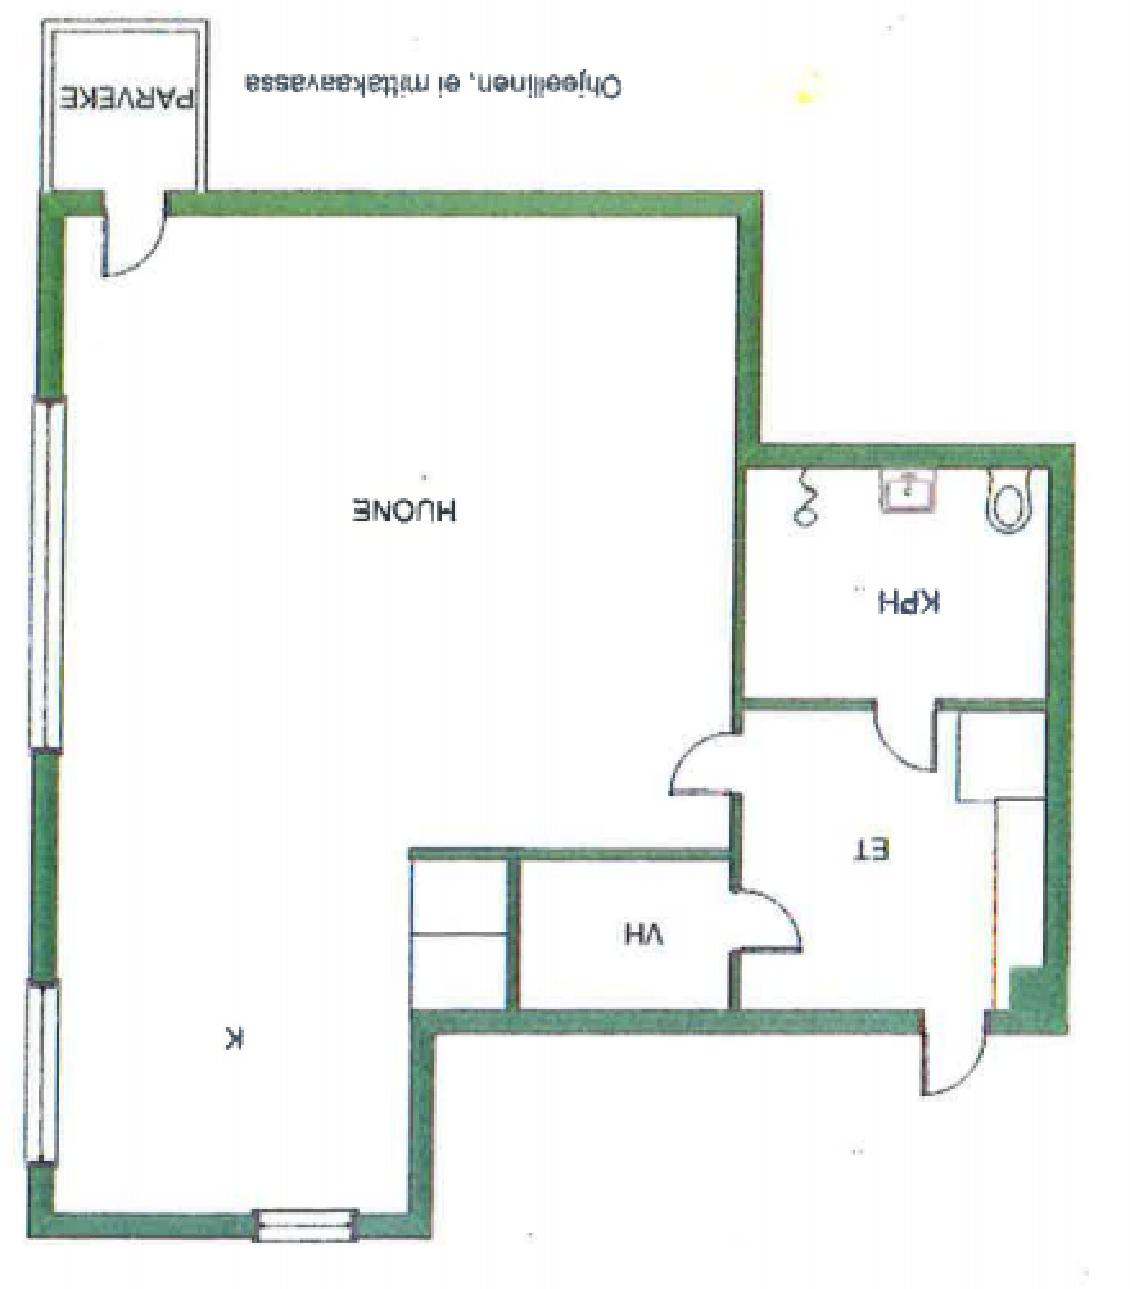door: (101, 191, 176, 283), (724, 885, 813, 961), (918, 1011, 991, 1095), (664, 728, 742, 805), (875, 699, 943, 779)
window: (34, 399, 60, 748), (27, 980, 57, 1168), (256, 1211, 352, 1242)
zone: (61, 216, 730, 1211), (739, 709, 1062, 1011), (746, 472, 1042, 699), (521, 855, 731, 1014), (50, 31, 195, 195)
